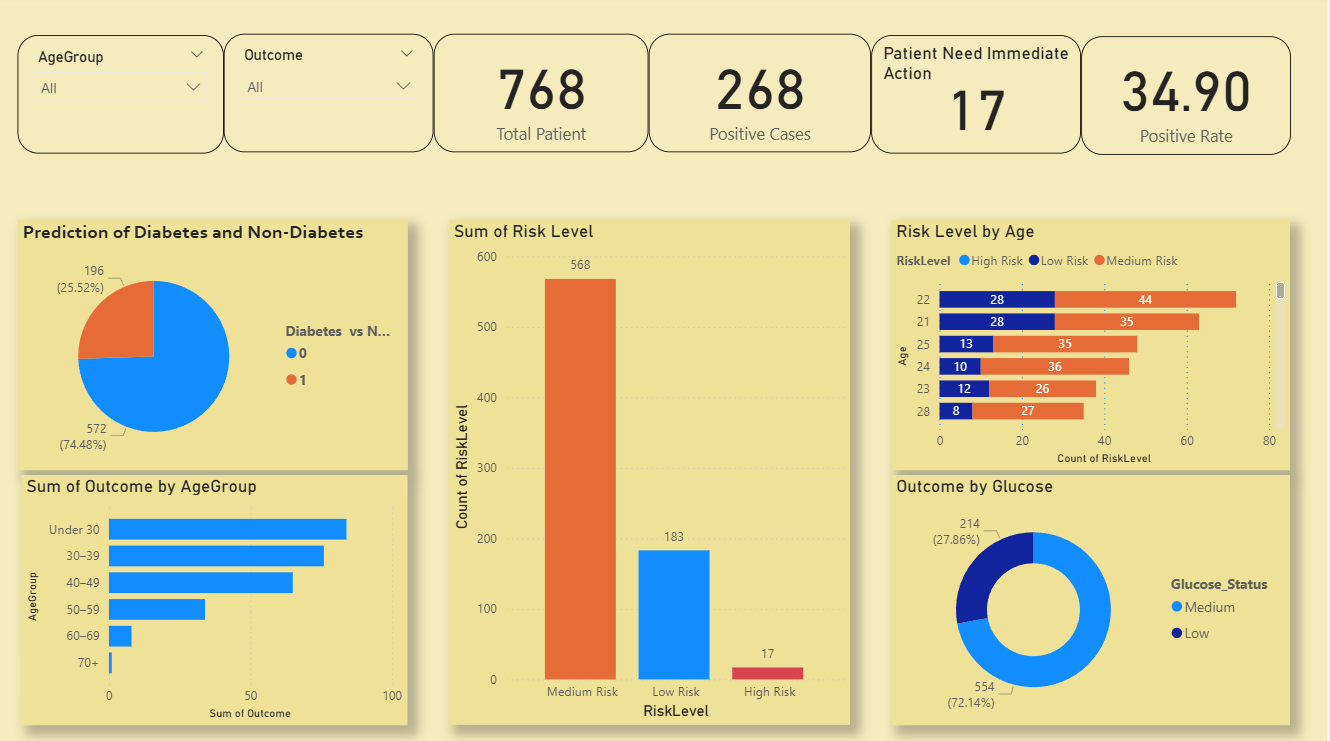

What the dashboard file says about the page in this screenshot:
{"tool":"powerbi","page":{"name":"Page 1","canvas":[1280,720],"ordinal":0},"visuals":[{"type":"pieChart","title":"Prediction of Diabetes and Non-Diabetes","fields":{"Category":["Diabetes_Predicted_With_Risk.Prediction"],"Y":["CountNonNull(Diabetes_Predicted_With_Risk.Prediction)"]},"box":[16.9,217.2,376.4,241.3],"z":0},{"type":"barChart","title":"Risk Level by Age","fields":{"Category":["Diabetes_Predicted_With_Risk.Age"],"Y":["CountNonNull(Diabetes_Predicted_With_Risk.RiskLevel)"],"Series":["Diabetes_Predicted_With_Risk.RiskLevel"]},"box":[860.2,217.2,384.9,241.3],"z":1000},{"type":"clusteredColumnChart","title":"Sum of Risk Level","fields":{"Category":["Diabetes_Predicted_With_Risk.RiskLevel"],"Y":["CountNonNull(Diabetes_Predicted_With_Risk.RiskLevel)"]},"box":[433.1,217.2,387.3,487.4],"z":2000},{"type":"barChart","fields":{"Category":["Diabetes_Predicted_With_Risk.AgeGroup"],"Y":["Sum(Diabetes_Predicted_With_Risk.Outcome)"]},"box":[20.5,463.3,372.8,241.3],"z":3000},{"type":"donutChart","title":"Outcome by Glucose","fields":{"Category":["Diabetes_Predicted_With_Risk.Glucose_Status"],"Y":["CountNonNull(Diabetes_Predicted_With_Risk.Outcome)"]},"box":[860.2,463.3,384.9,241.3],"z":4000},{"type":"slicer","fields":{"Values":["Diabetes_Predicted_With_Risk.AgeGroup"]},"box":[16.9,38.6,199.1,114.6],"z":5000},{"type":"slicer","fields":{"Values":["Diabetes_Predicted_With_Risk.Outcome"]},"box":[216,37.4,202.7,114.6],"z":6000},{"type":"card","title":"Patient Need Immediate Action","fields":{"Values":["Diabetes_Predicted_With_Risk.HighRisk"]},"box":[840.9,38.6,202.7,114.6],"z":7000},{"type":"card","fields":{"Values":["Diabetes_Predicted_With_Risk.Total Patient"]},"box":[418.6,37.4,207.5,114.6],"z":8000},{"type":"card","fields":{"Values":["Diabetes_Predicted_With_Risk.Positive Cases"]},"box":[626.1,37.4,214.7,114.6],"z":9000},{"type":"card","fields":{"Values":["Diabetes_Predicted_With_Risk.Positive Rate"]},"box":[1043.6,39.8,202.7,114.6],"z":10000}]}

Visuals, with their boxes in screenshot pixels (x1, y1, x2, y2), scaled from the page's 1280x720 canvas onto the 1330x741 screenshot:
"Prediction of Diabetes and Non-Diabetes" pieChart: left=18, top=224, right=409, bottom=472
"Risk Level by Age" barChart: left=894, top=224, right=1294, bottom=472
"Sum of Risk Level" clusteredColumnChart: left=450, top=224, right=852, bottom=725
barChart - Diabetes_Predicted_With_Risk.AgeGroup x Sum(Diabetes_Predicted_With_Risk.Outcome): left=21, top=477, right=409, bottom=725
"Outcome by Glucose" donutChart: left=894, top=477, right=1294, bottom=725
slicer - Diabetes_Predicted_With_Risk.AgeGroup: left=18, top=40, right=224, bottom=158
slicer - Diabetes_Predicted_With_Risk.Outcome: left=224, top=38, right=435, bottom=156
"Patient Need Immediate Action" card: left=874, top=40, right=1084, bottom=158
card - Diabetes_Predicted_With_Risk.Total Patient: left=435, top=38, right=651, bottom=156
card - Diabetes_Predicted_With_Risk.Positive Cases: left=651, top=38, right=874, bottom=156
card - Diabetes_Predicted_With_Risk.Positive Rate: left=1084, top=41, right=1295, bottom=159
